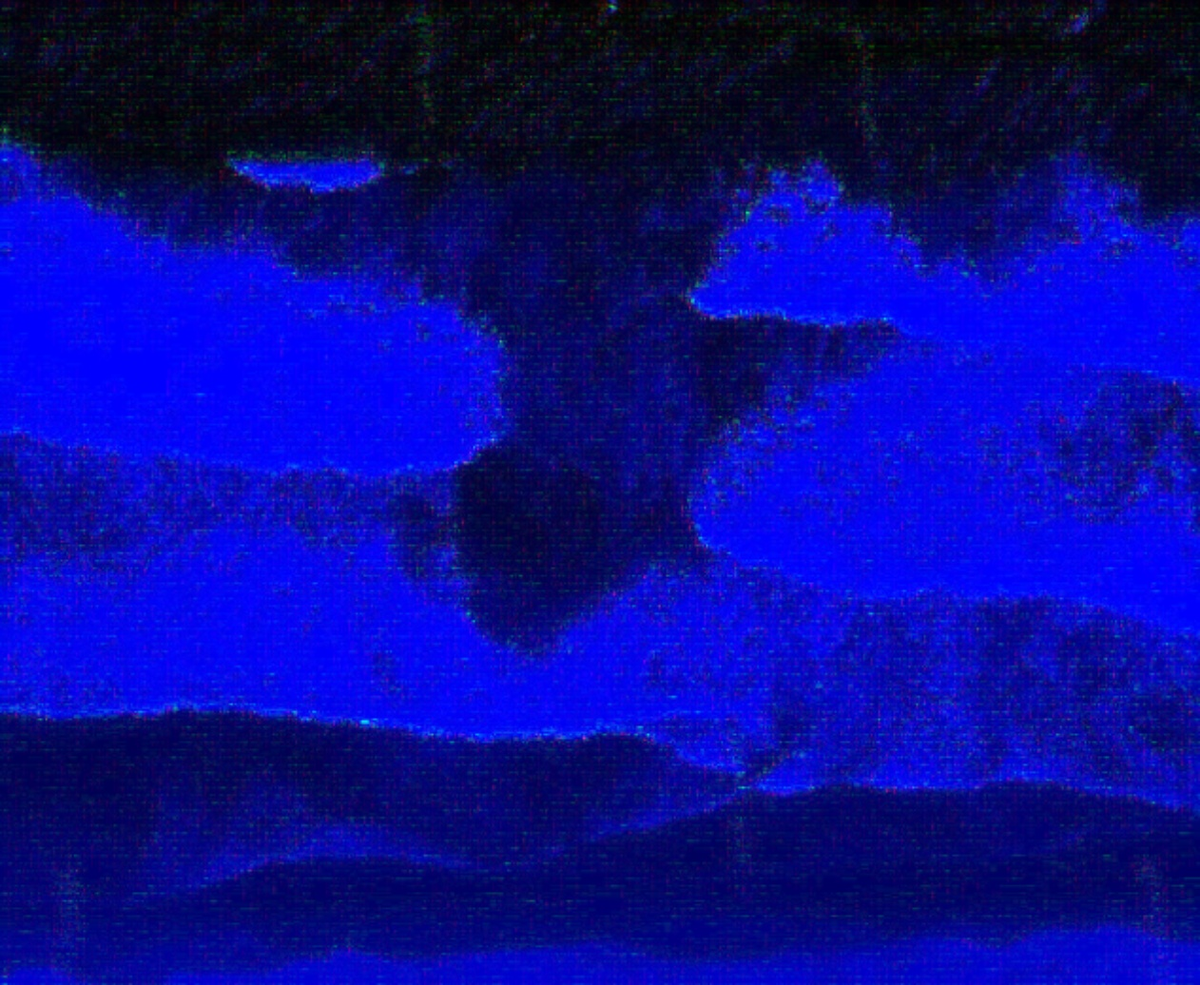rip_current: (344, 130, 760, 720)
